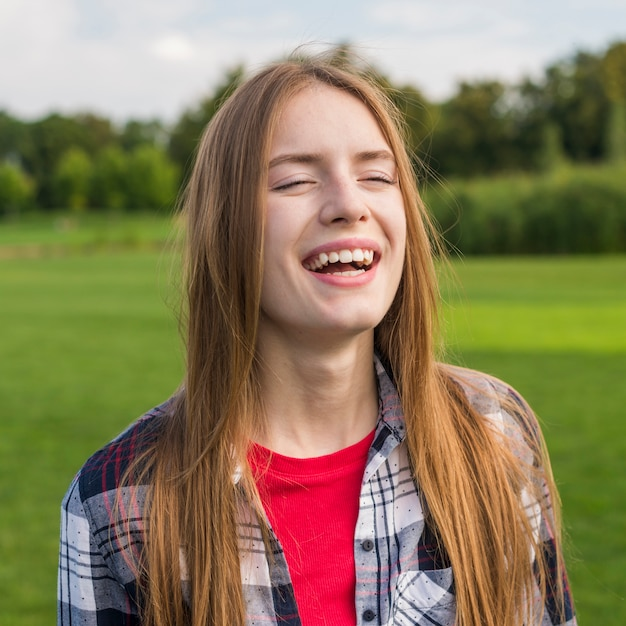teen: (185, 50, 433, 373)
